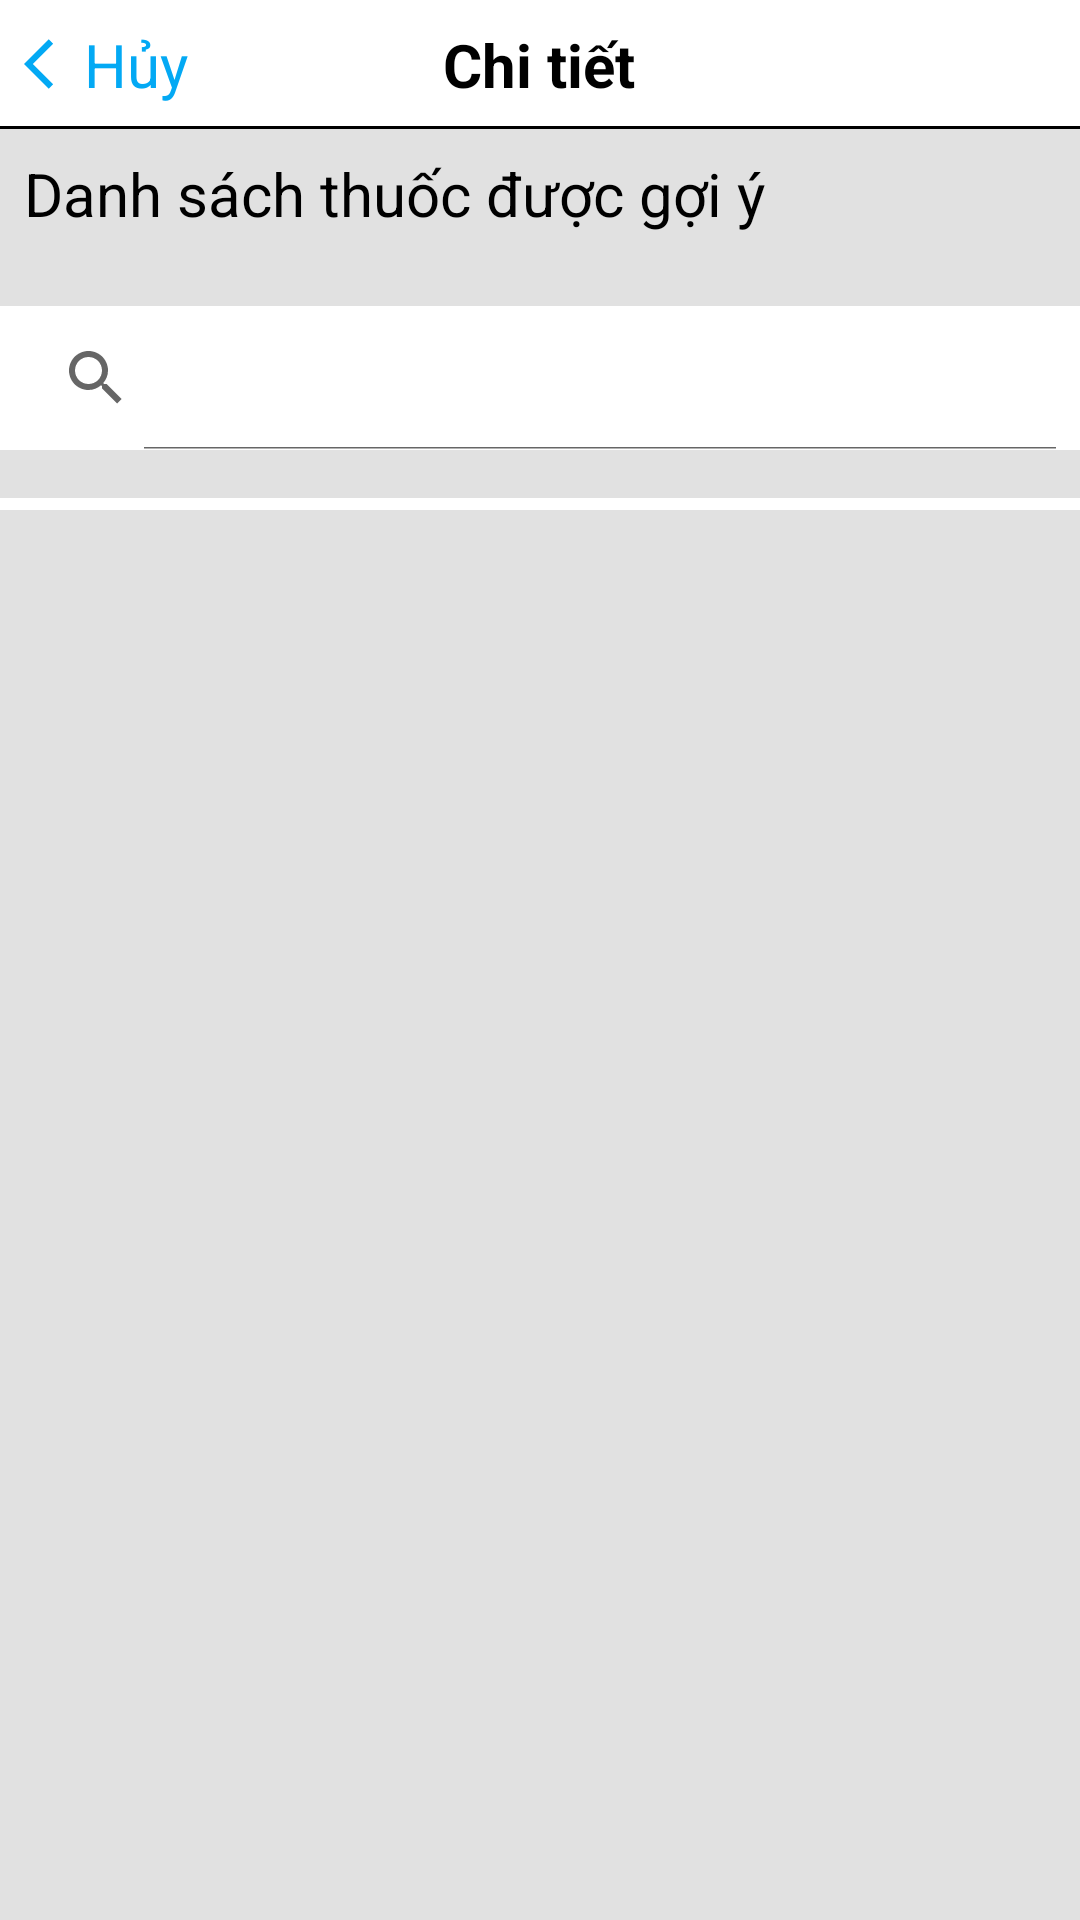

Named icons in this screenshot (1080x1920) and their bounding boxes, [x1, y1, x2, y2]:
arrow back: [24, 39, 53, 89]
